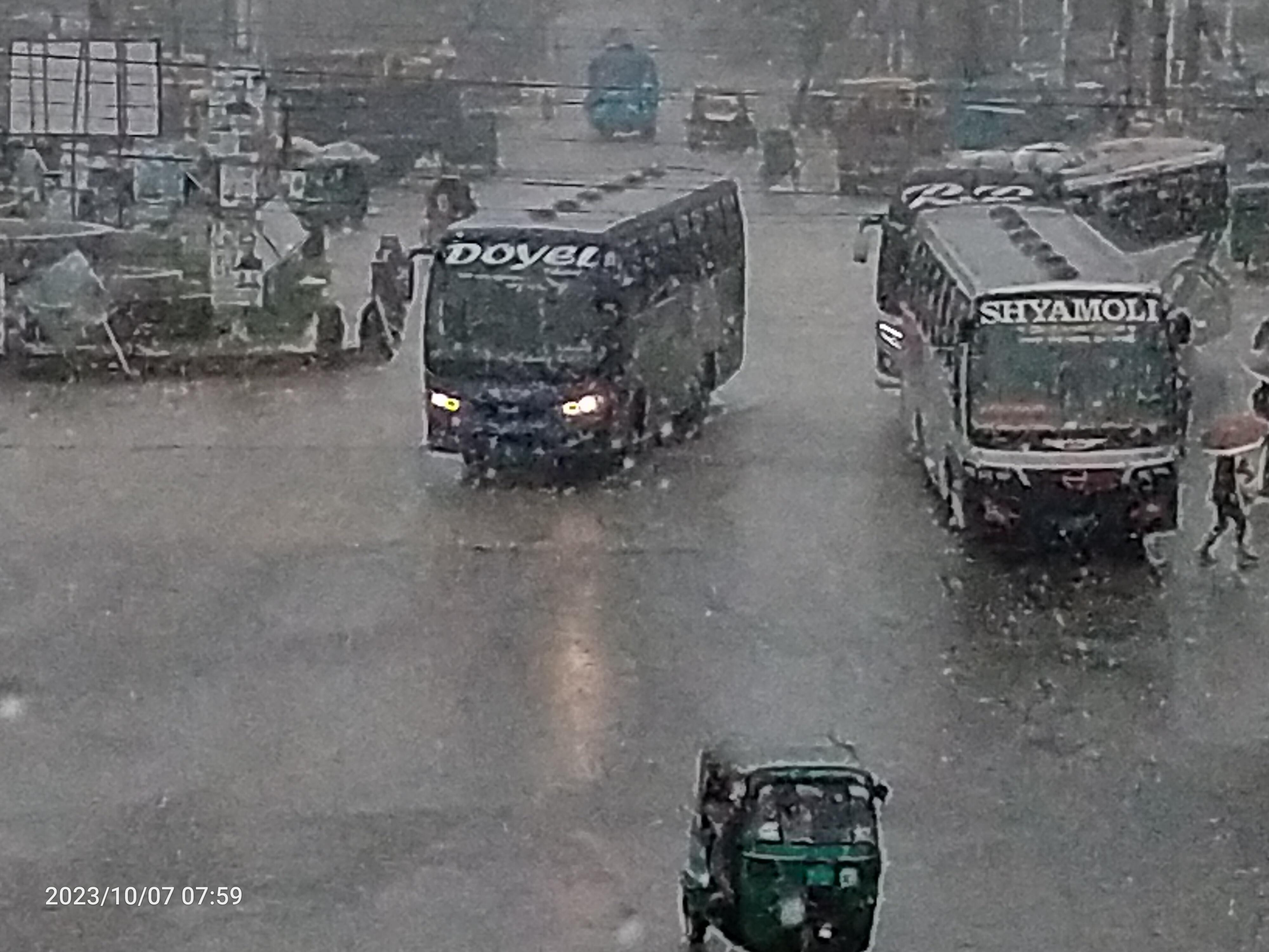Bus: (393, 170, 775, 507), (876, 195, 1204, 581)
Truck: (574, 27, 671, 157)
